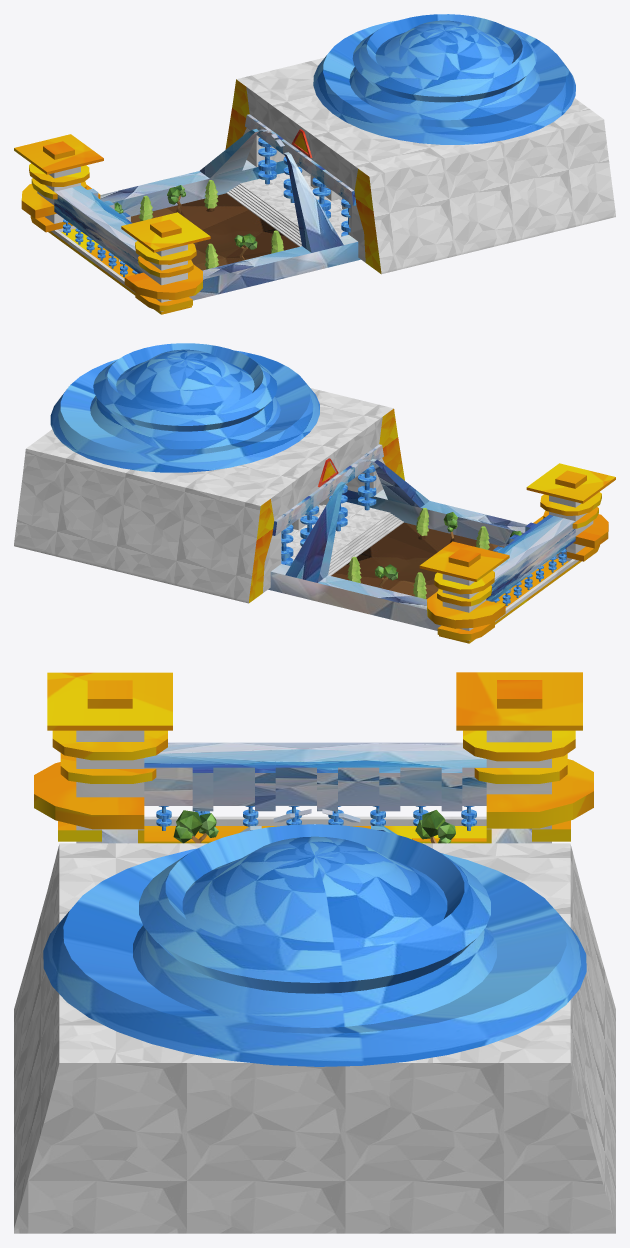
Rendered from terrace.fbx.
3 renders of one model, top to bottom at view 1: azimuth 30°, elevation 25°; view 2: azimuth 150°, elevation 25°; view 3: azimuth 270°, elevation 25°, orthographic. The views are drawn at different scales.
Parts seen in each view (by area): view 1: pCube4, pSphere7, pPlane1, pCube2, pSphere8, pPipe1, pCube3, pCylinder30; view 2: pCube4, pSphere7, pPlane1, pCube2, pSphere8, pPipe1, pCube3, pCylinder28, pCylinder30; view 3: pCube4, pSphere7, pCube2, pSphere8, pPipe1, pPlane1.
Part boxes in pixels (box(x1,y1,x2,y2)): pCube4: box(225, 57, 615, 274); pSphere7: box(313, 14, 575, 144); pPlane1: box(100, 129, 360, 300); pCube2: box(14, 134, 210, 314); pSphere8: box(313, 20, 575, 144); pPipe1: box(54, 185, 143, 273); pCube3: box(226, 173, 347, 246); pCylinder30: box(258, 138, 276, 184); pCube4: box(14, 388, 404, 603); pSphere7: box(50, 343, 318, 472); pPlane1: box(268, 459, 561, 630); pCube2: box(419, 463, 615, 643); pSphere8: box(50, 351, 319, 472); pPipe1: box(486, 514, 575, 601); pCube3: box(281, 502, 403, 575); pCylinder28: box(358, 465, 376, 510); pCylinder30: box(281, 524, 293, 565); pCube4: box(14, 843, 615, 1233); pSphere7: box(44, 824, 586, 1066); pCube2: box(34, 672, 593, 843); pSphere8: box(43, 852, 583, 1066); pPipe1: box(144, 742, 486, 811); pPlane1: box(102, 809, 531, 843).
Bounding box in the file's own units: 108 × 34.1 × 61.21.
